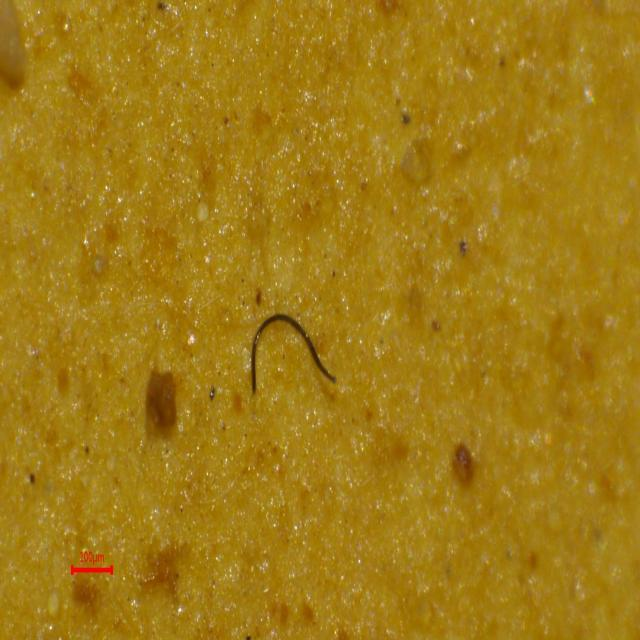fibers: (243, 307, 337, 393)
